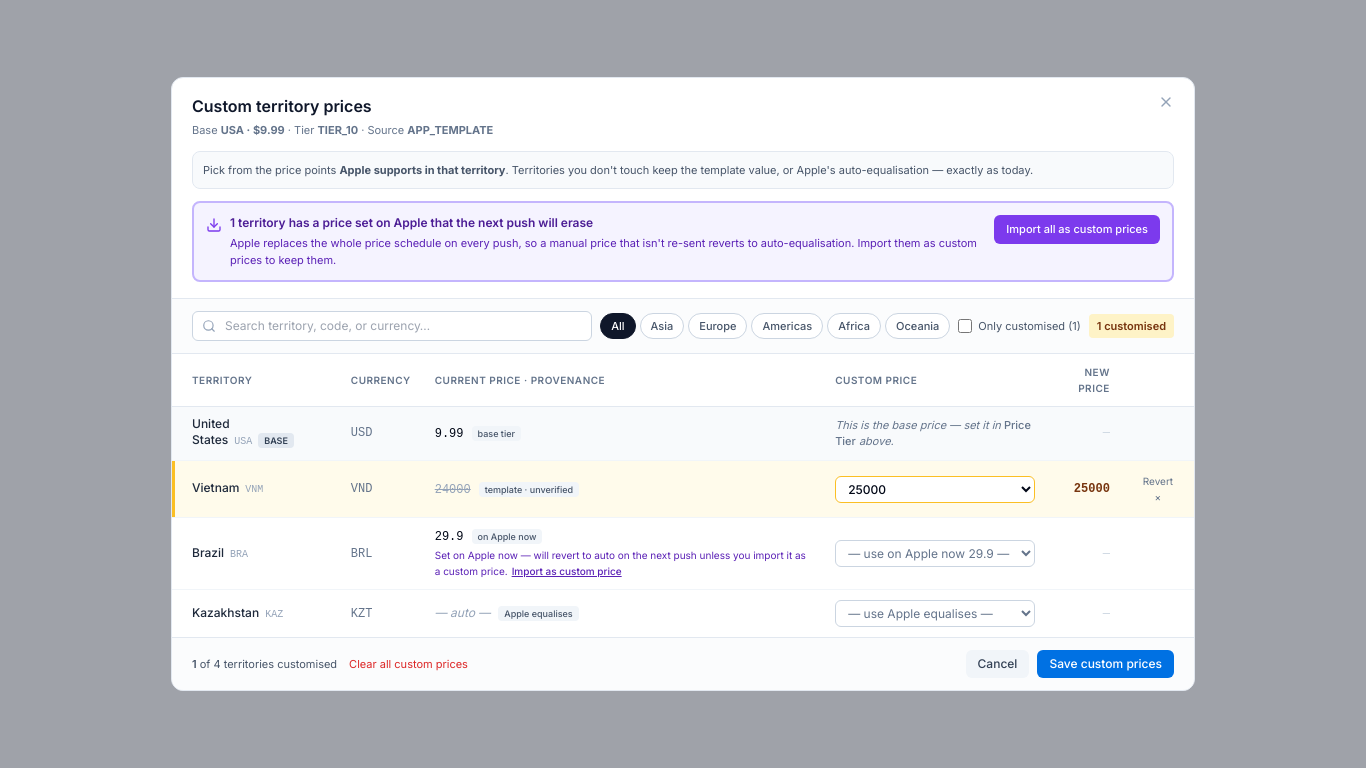
§I.3 — a stored custom Apple no longer offers › flags the row once its picker has been opened
Expected: the text "Vietnam" is shown, [192,480,239,495]
Focus the dropdown named "Custom price for Vietnam". click: (935, 489)
box: [835,476,1035,502]
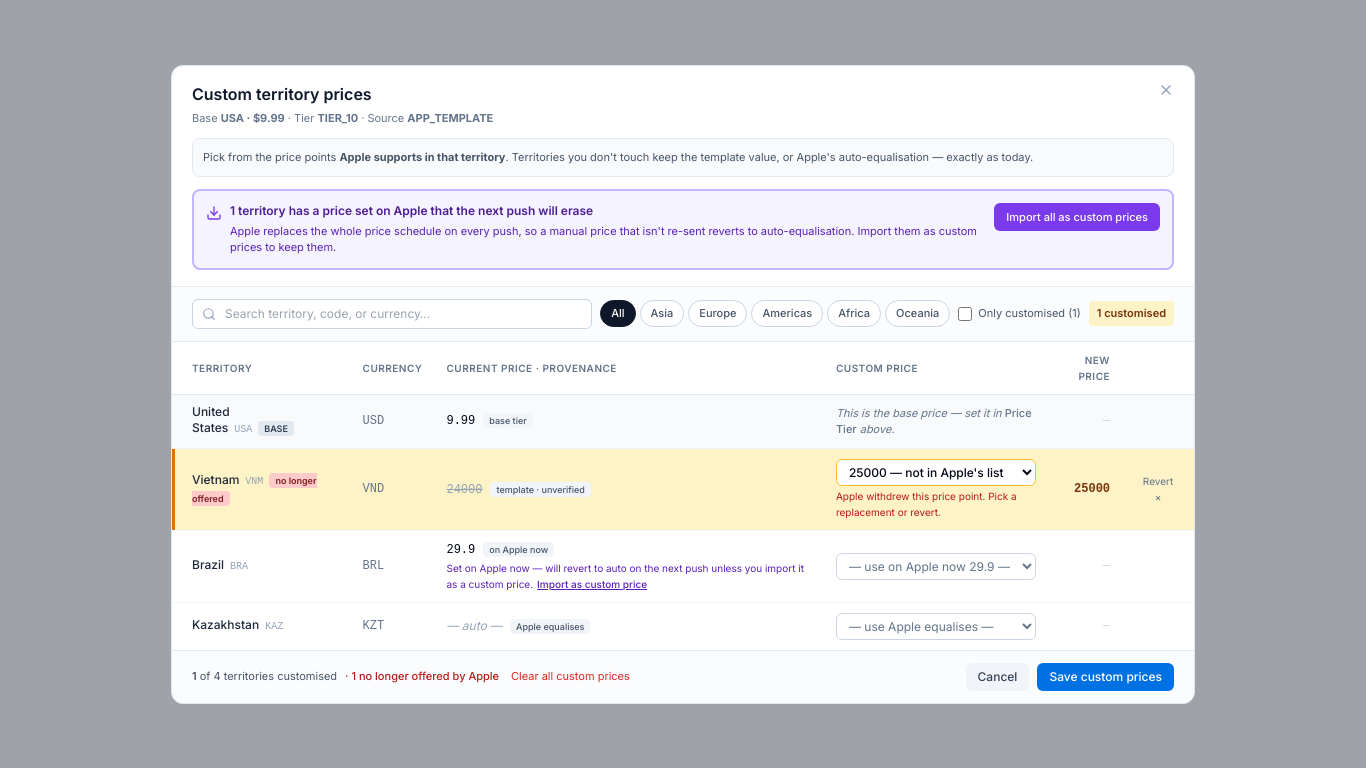
Expected: the text "no longer offered" is shown, [192,472,316,506]
Expected: the row with test id "custom-price-row-VNM" shows "Apple withdrew this price point", [836,490,1017,518]
